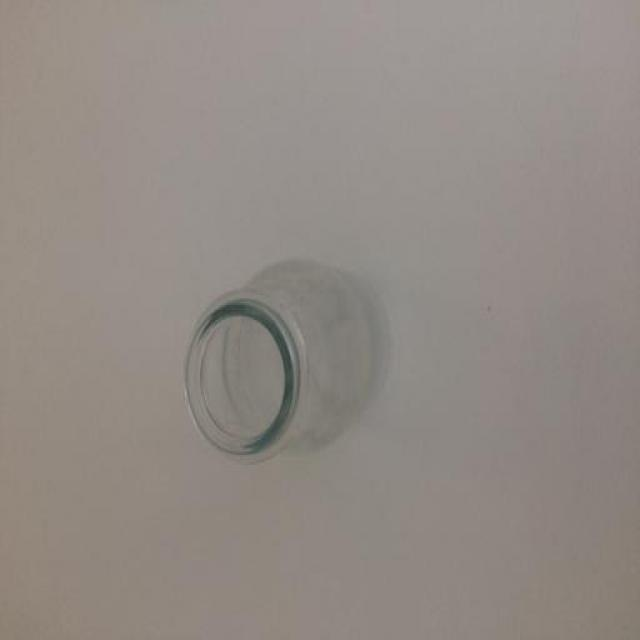Waste: (185, 262, 382, 461)
